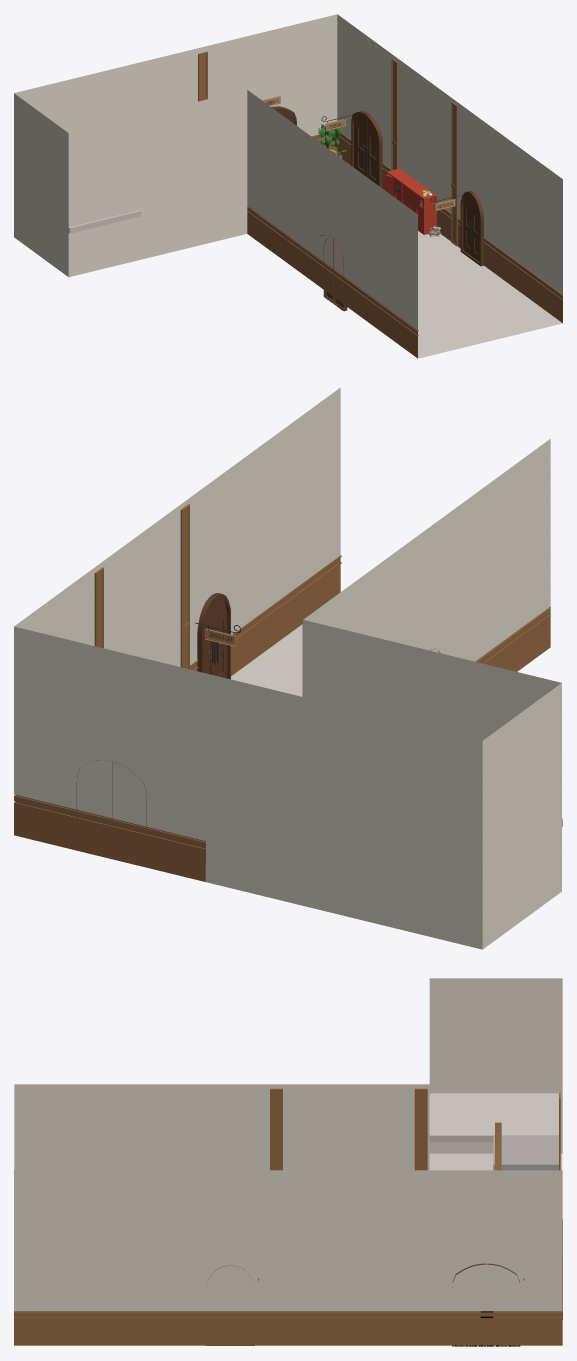
The model's file is corridor1.fbx.
3 views of the same model, one above another, from view 1: azimuth 30°, elevation 25°; view 2: azimuth 150°, elevation 25°; view 3: azimuth 270°, elevation 25° (orthographic). The views are drawn at different scales.
Visible parts, largest first — view 1: corrodor1; view 2: corrodor1; view 3: corrodor1.
Boxes of the visible parts, x1,y1,x2,y2 form: corrodor1: (14, 14, 562, 358); corrodor1: (14, 387, 562, 949); corrodor1: (14, 978, 562, 1346).
Size of the model in its own units: 18.71 by 8.27 by 22.43.
Materials: 2 (2 with a texture image).
